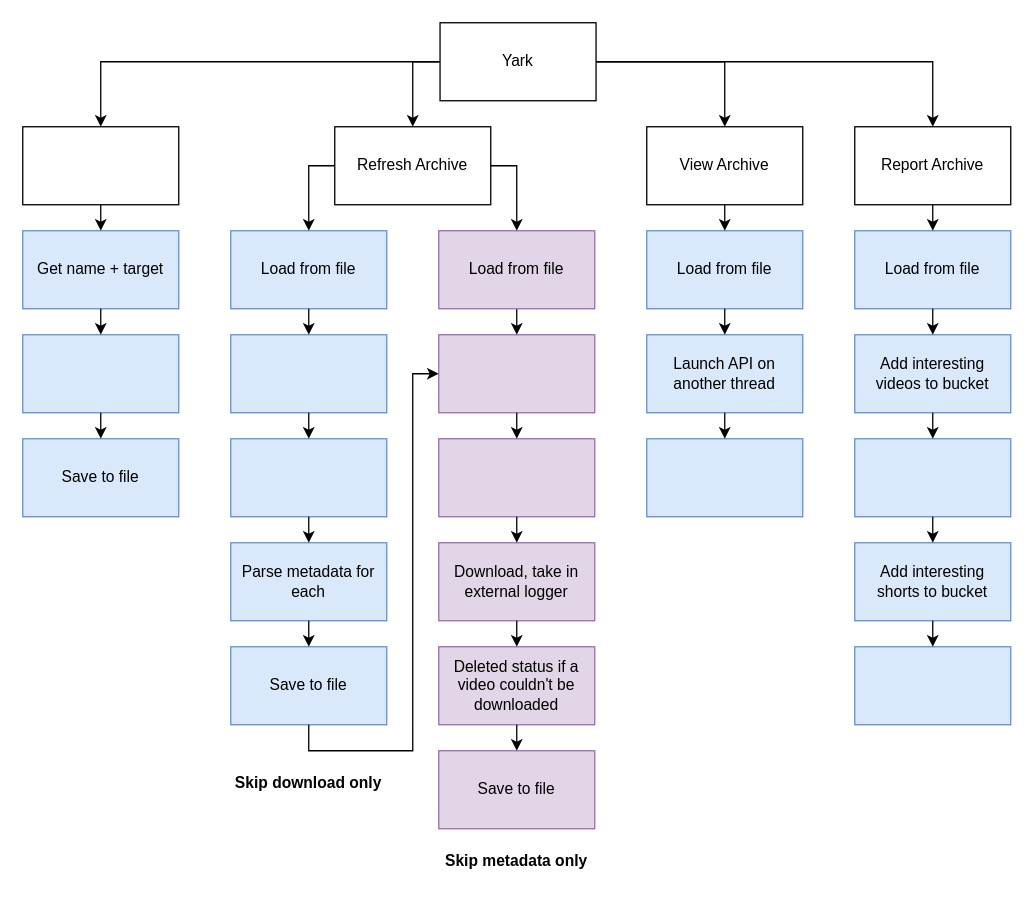
Some shapes in this 1034 by 903 pixel diagram are drawn without their labels. The centre of each missing label's shape, as x and y in pixels:
Add interesting streams to bucket: point 932,477
Categorise metadata into 3: point 308,477
Curate using maximums: point 516,477
Download metadata blob: point 308,373
Generate report: point 932,685
Launch viewer: point 724,477
Make empty archive: point 100,373
Merge categories: point 516,373
New Archive: point 100,165
